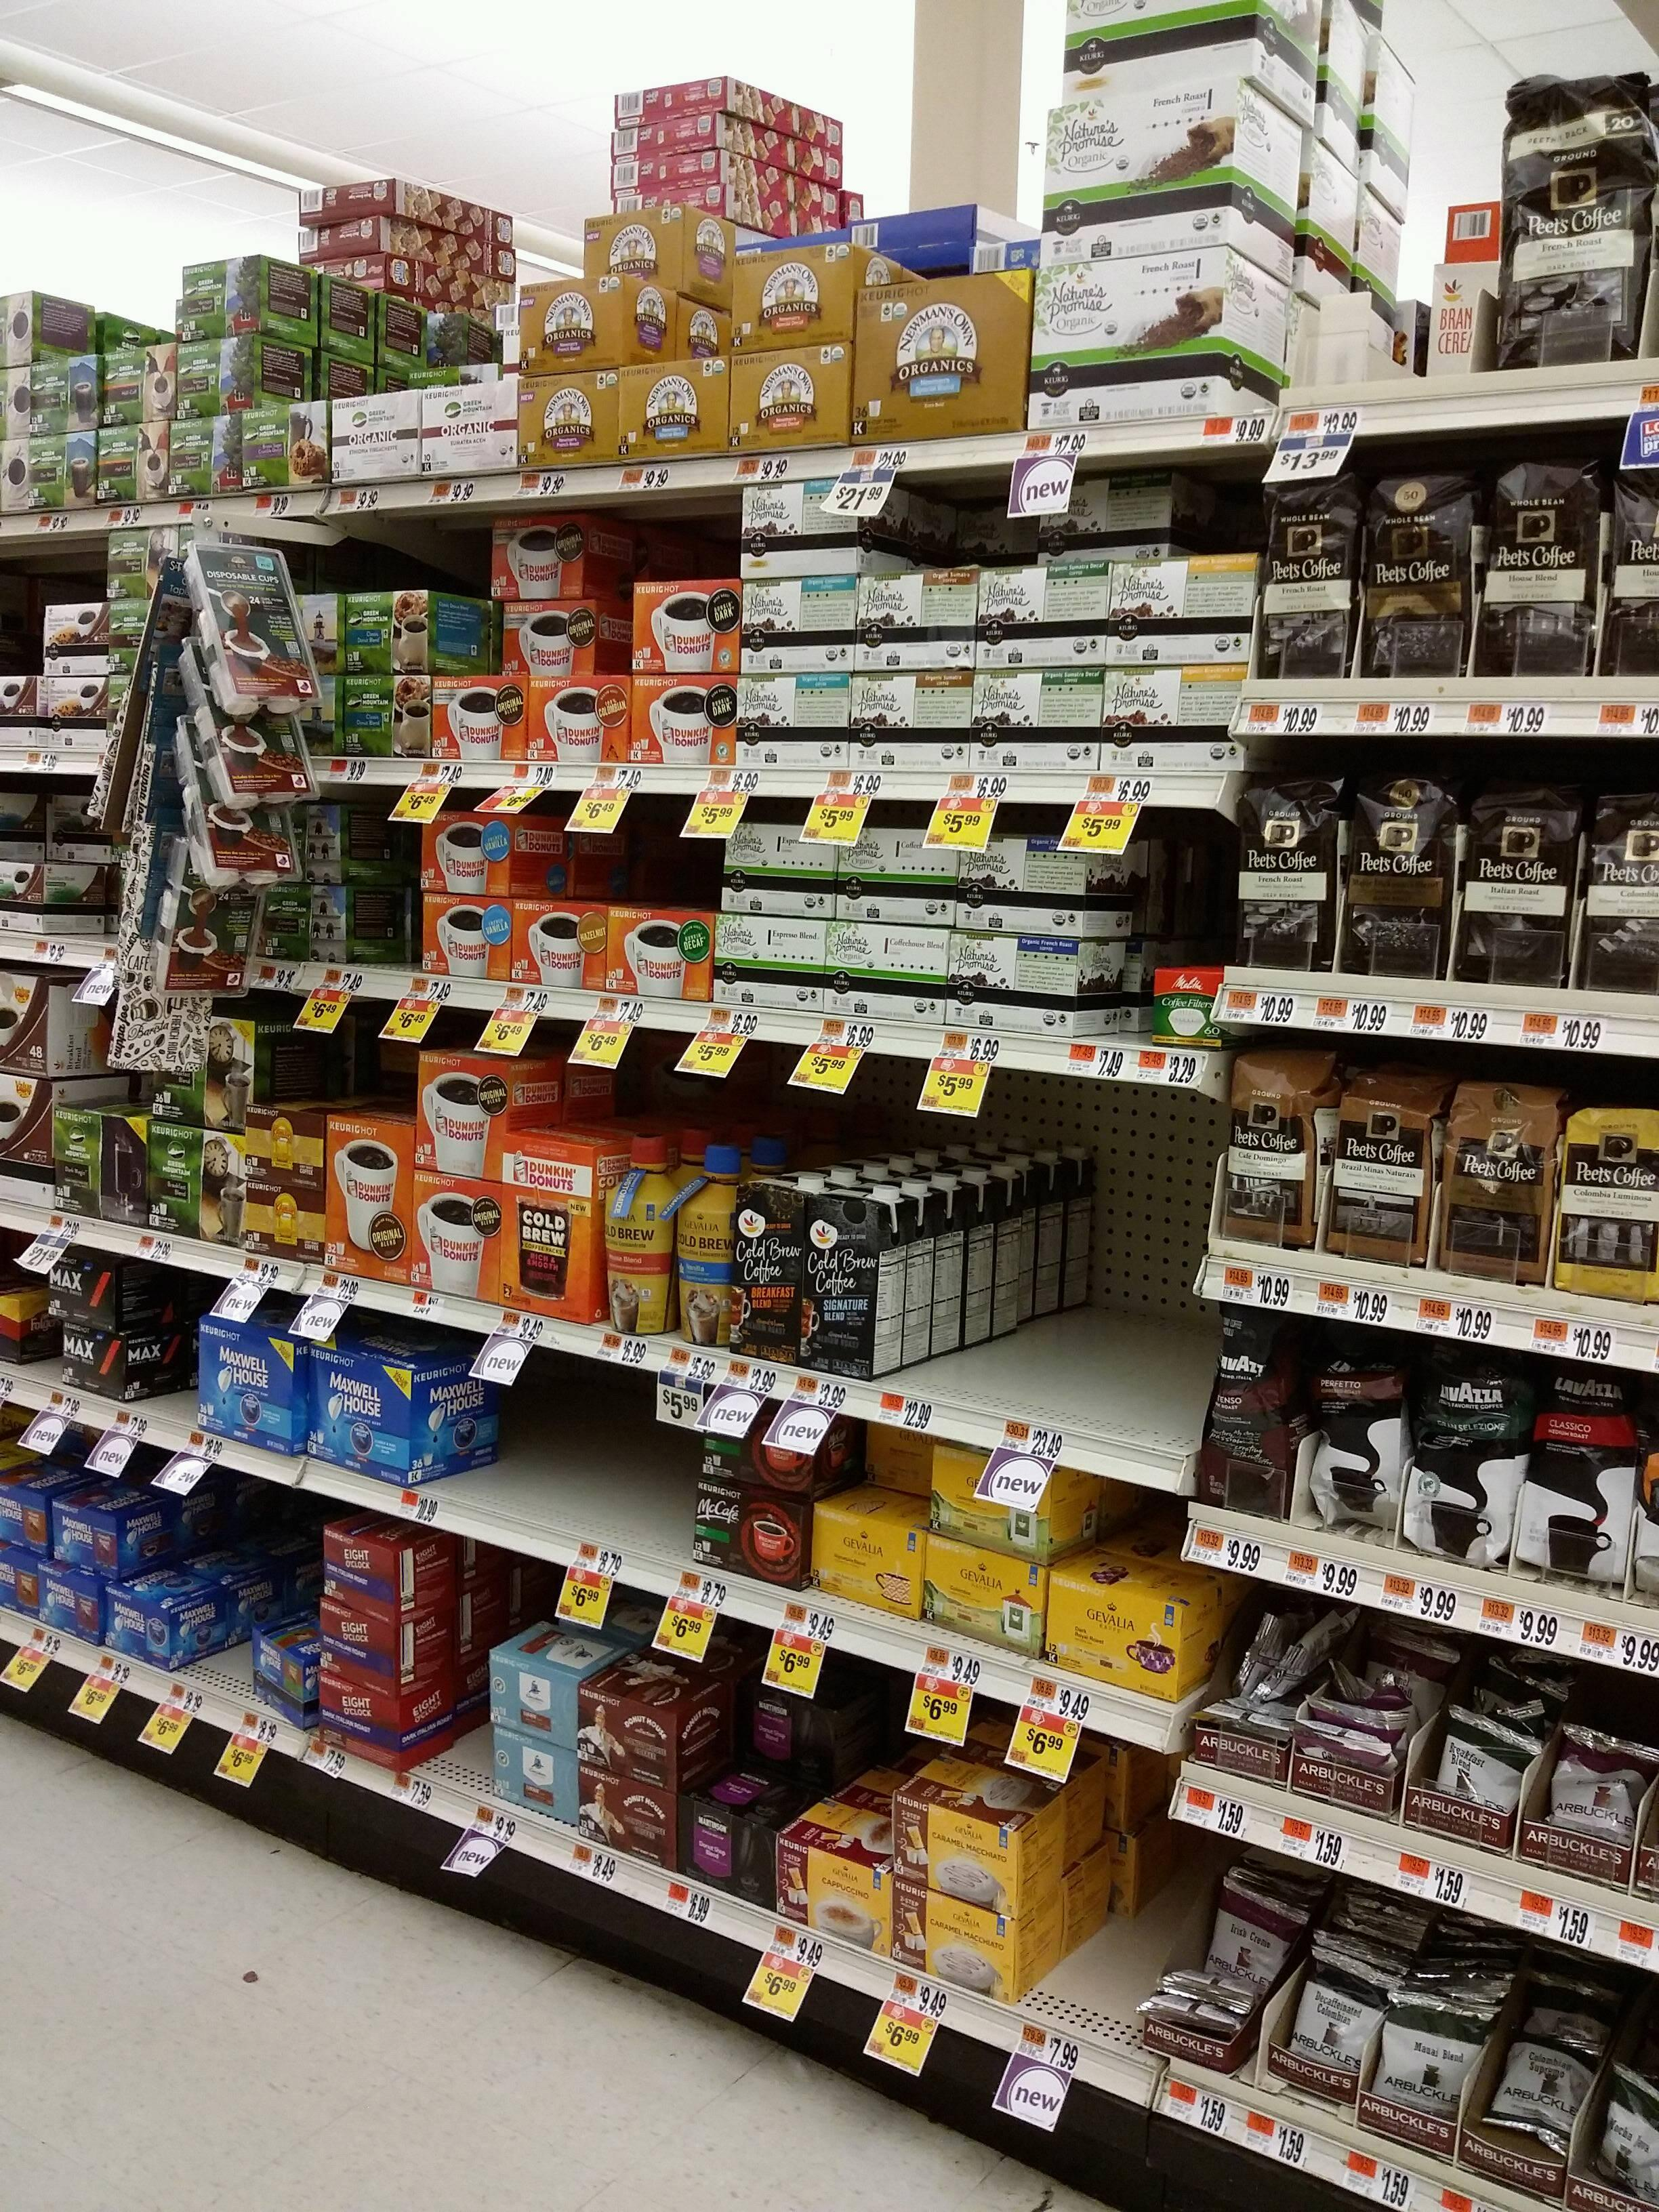empty: (983, 1216, 1213, 1407), (484, 1409, 681, 1538), (1065, 1855, 1159, 2033), (340, 827, 420, 972), (1168, 819, 1237, 970), (586, 836, 728, 900)
